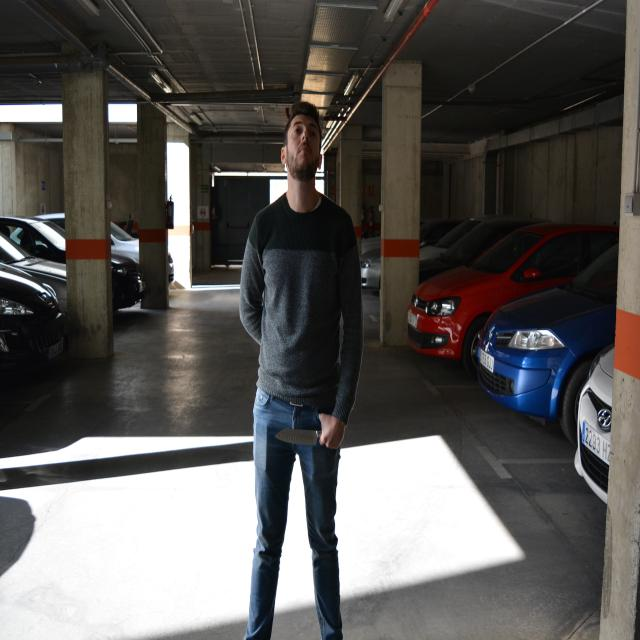knife: (276, 424, 318, 457)
